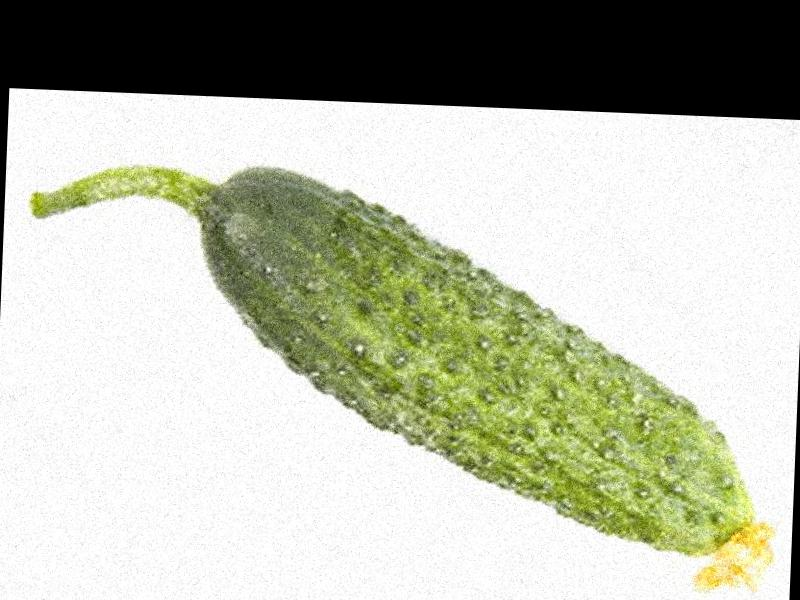Cucumber: (22, 157, 792, 599)
